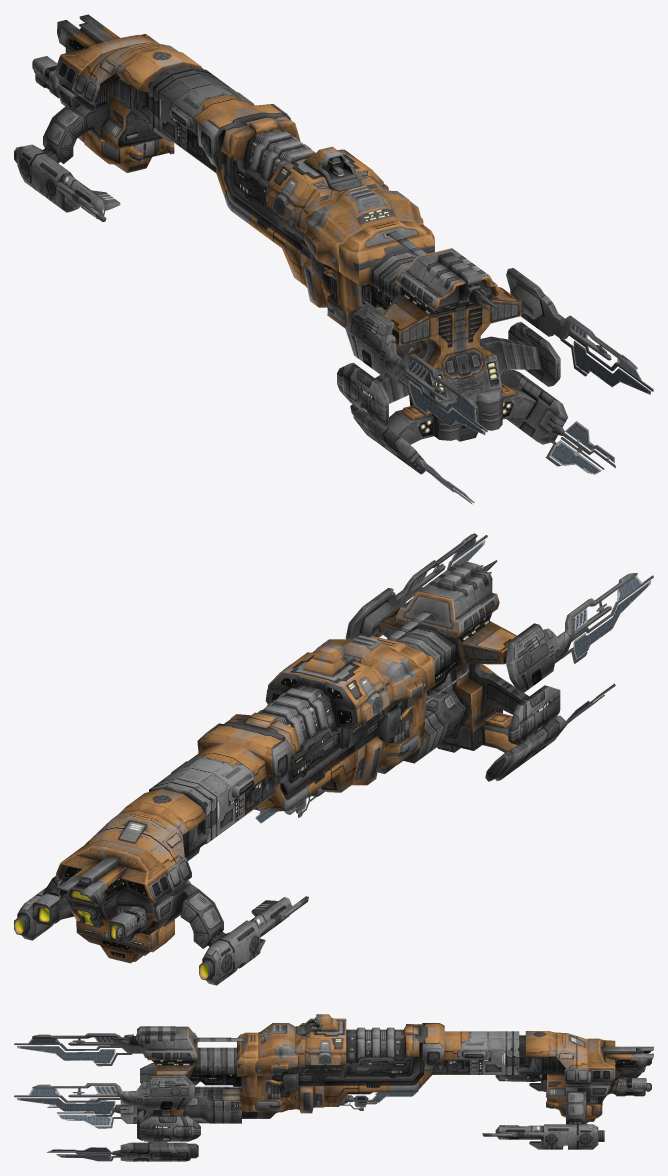
The model's file is 29990_Loki3121_lite.glb.
3 renders of one model, top to bottom at view 1: azimuth 30°, elevation 25°; view 2: azimuth 150°, elevation 25°; view 3: azimuth 270°, elevation 25°, orthographic. The views are drawn at different scales.
Parts seen in each view (by area): view 1: msc1_t3_s1v3, msc1_t3_s3v2, msc1_t3_s2v1, msc1_t3_s4v1; view 2: msc1_t3_s1v3, msc1_t3_s3v2, msc1_t3_s2v1, msc1_t3_s4v1; view 3: msc1_t3_s1v3, msc1_t3_s3v2, msc1_t3_s2v1, msc1_t3_s4v1.
Part boxes in pixels (bbox=[...]): msc1_t3_s1v3: bbox=[304, 185, 653, 504]; msc1_t3_s3v2: bbox=[14, 42, 305, 285]; msc1_t3_s2v1: bbox=[228, 118, 388, 307]; msc1_t3_s4v1: bbox=[32, 14, 158, 142]; msc1_t3_s1v3: bbox=[312, 533, 653, 781]; msc1_t3_s3v2: bbox=[14, 717, 357, 985]; msc1_t3_s2v1: bbox=[231, 643, 393, 785]; msc1_t3_s4v1: bbox=[32, 839, 173, 963]; msc1_t3_s1v3: bbox=[14, 1023, 297, 1161]; msc1_t3_s3v2: bbox=[324, 1023, 604, 1149]; msc1_t3_s2v1: bbox=[294, 1014, 413, 1113]; msc1_t3_s4v1: bbox=[587, 1038, 653, 1121].
Size of the model in its own units: 1.08 by 1 by 4.54.
Materials: 8 (8 with a texture image).
